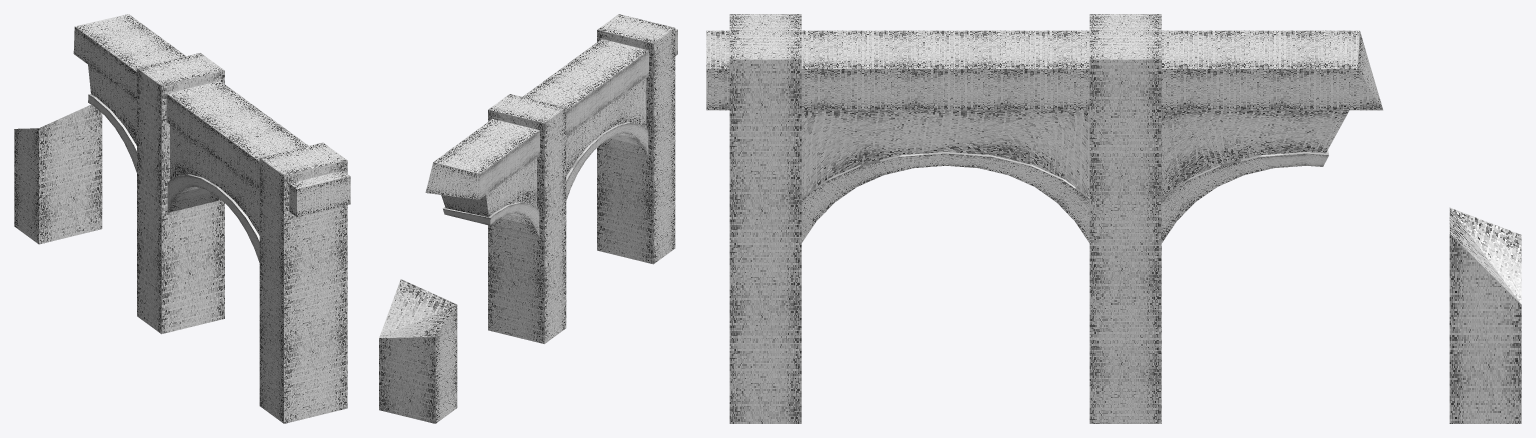
Rendered from brokenBridge.fbx.
3 views of the same model, side by side, from view 1: azimuth 30°, elevation 25°; view 2: azimuth 150°, elevation 25°; view 3: azimuth 270°, elevation 25° (orthographic). The views are drawn at different scales.
Parts seen in each view (by area): view 1: columns, top, ductInside; view 2: columns, top, ductInside; view 3: columns, top, ductInside.
Part boxes in pixels (x1,y1,x2,y2): columns: (14, 53, 347, 423); top: (73, 14, 350, 217); ductInside: (88, 65, 259, 262); columns: (379, 14, 675, 423); top: (425, 29, 677, 199); ductInside: (441, 78, 648, 236); columns: (729, 14, 1521, 423); top: (706, 30, 1382, 110); ductInside: (801, 110, 1349, 243).
Size of the model in its own units: 183 by 682 by 1382.
